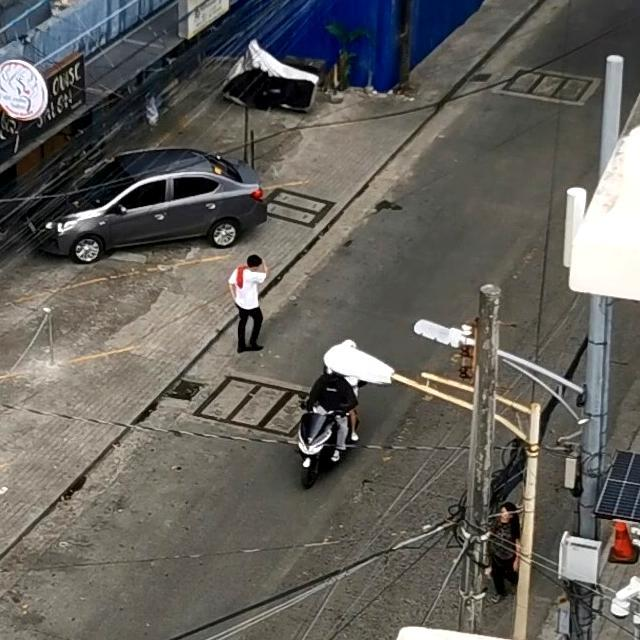Motorcycle: (277, 336, 377, 480)
